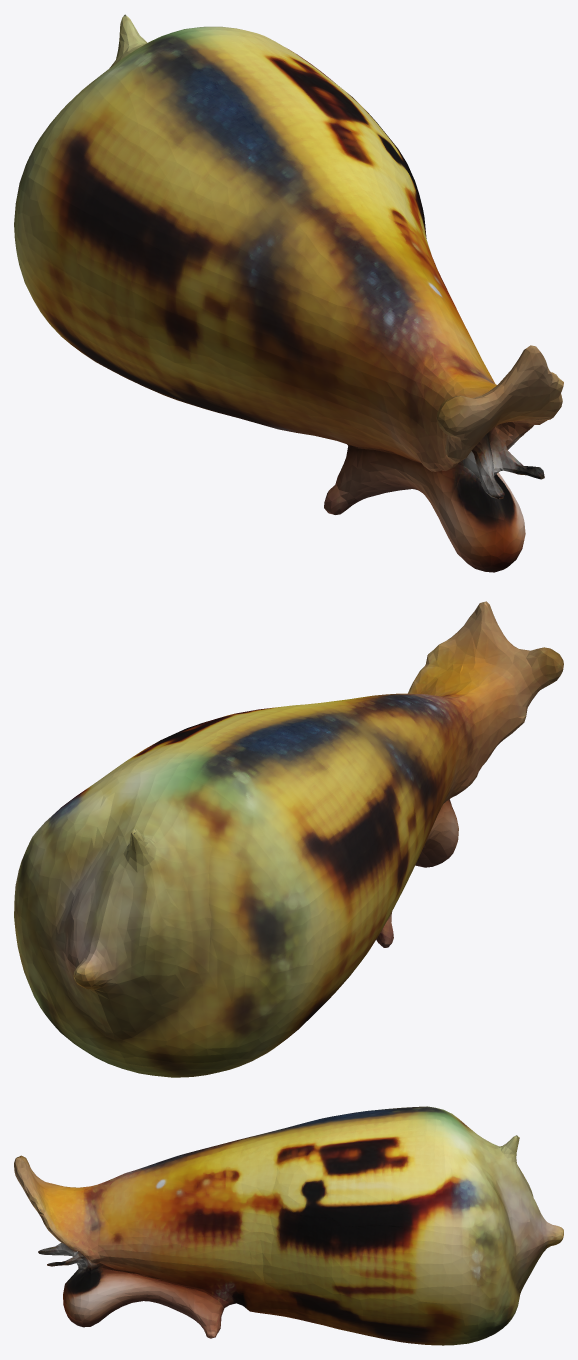
3 views of the same model, one above another, from view 1: azimuth 30°, elevation 25°; view 2: azimuth 150°, elevation 25°; view 3: azimuth 270°, elevation 25° (orthographic). The views are drawn at different scales.
Parts seen in each view (by area): view 1: world; view 2: world; view 3: world.
Boxes of the visible parts, x1,y1,x2,y2 form: world: (14,14,563,572); world: (14,601,563,1077); world: (14,1106,563,1345).
Bounding box in the file's own units: 0.429 × 0.4222 × 0.9991.
Materials: 1 (1 with a texture image).
